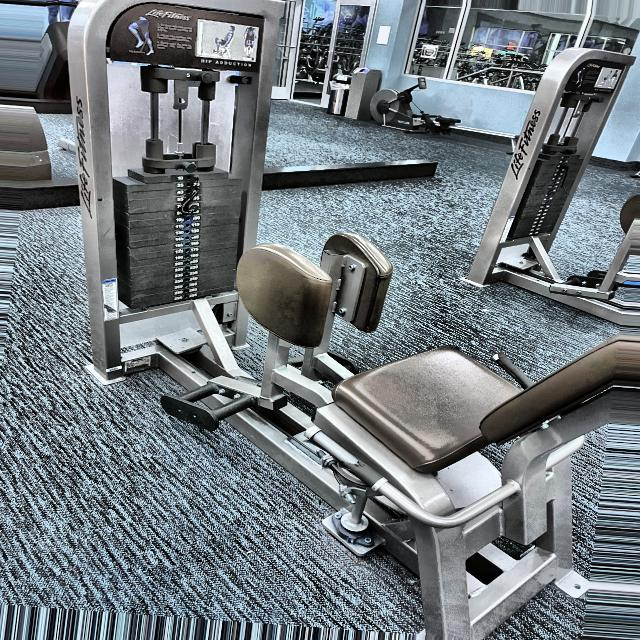hip_adduction_machine: (230, 209, 420, 531), (124, 13, 265, 62), (188, 58, 253, 72)
